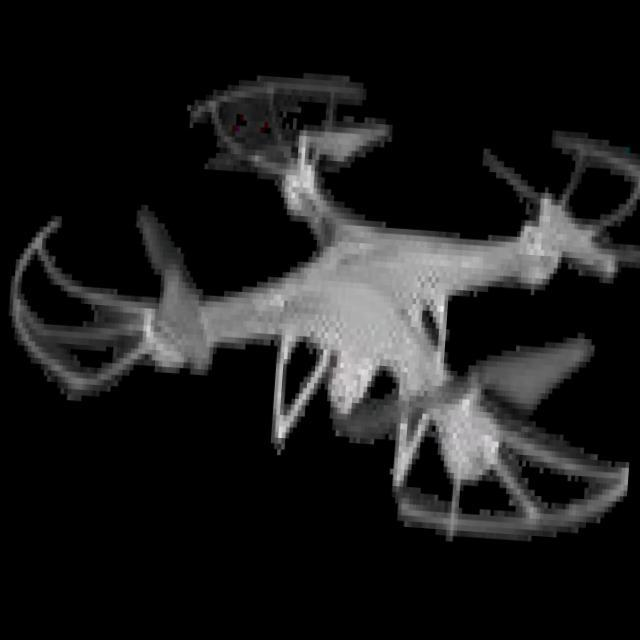drone: (3, 17, 640, 565)
